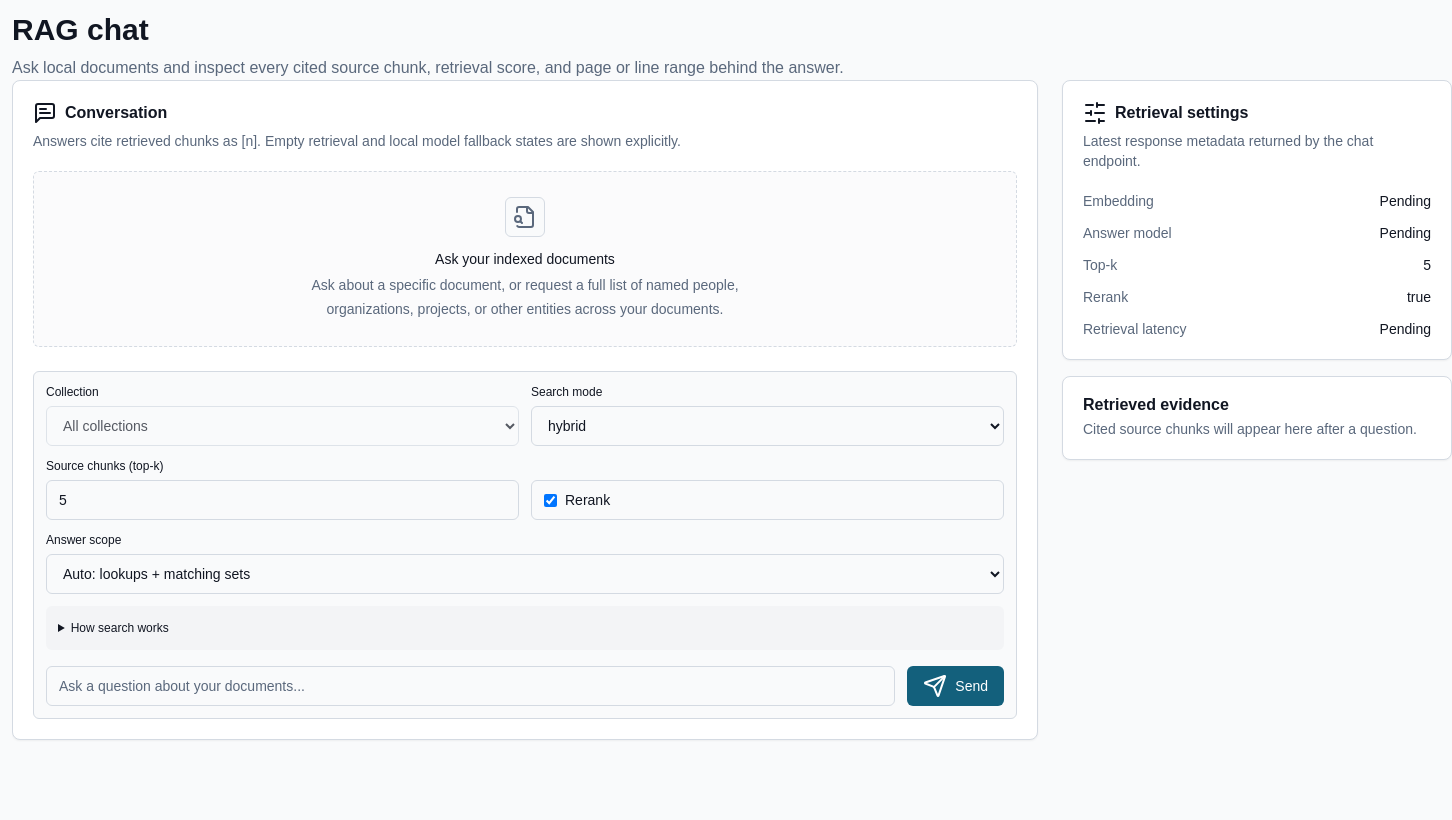
it: chat inventory preview › shows up to 50 results out of 3 with a text download
In the field with placeholder "Ask a question about your documents...": (471, 686) [46,666,895,706], type "Who supplies us?"
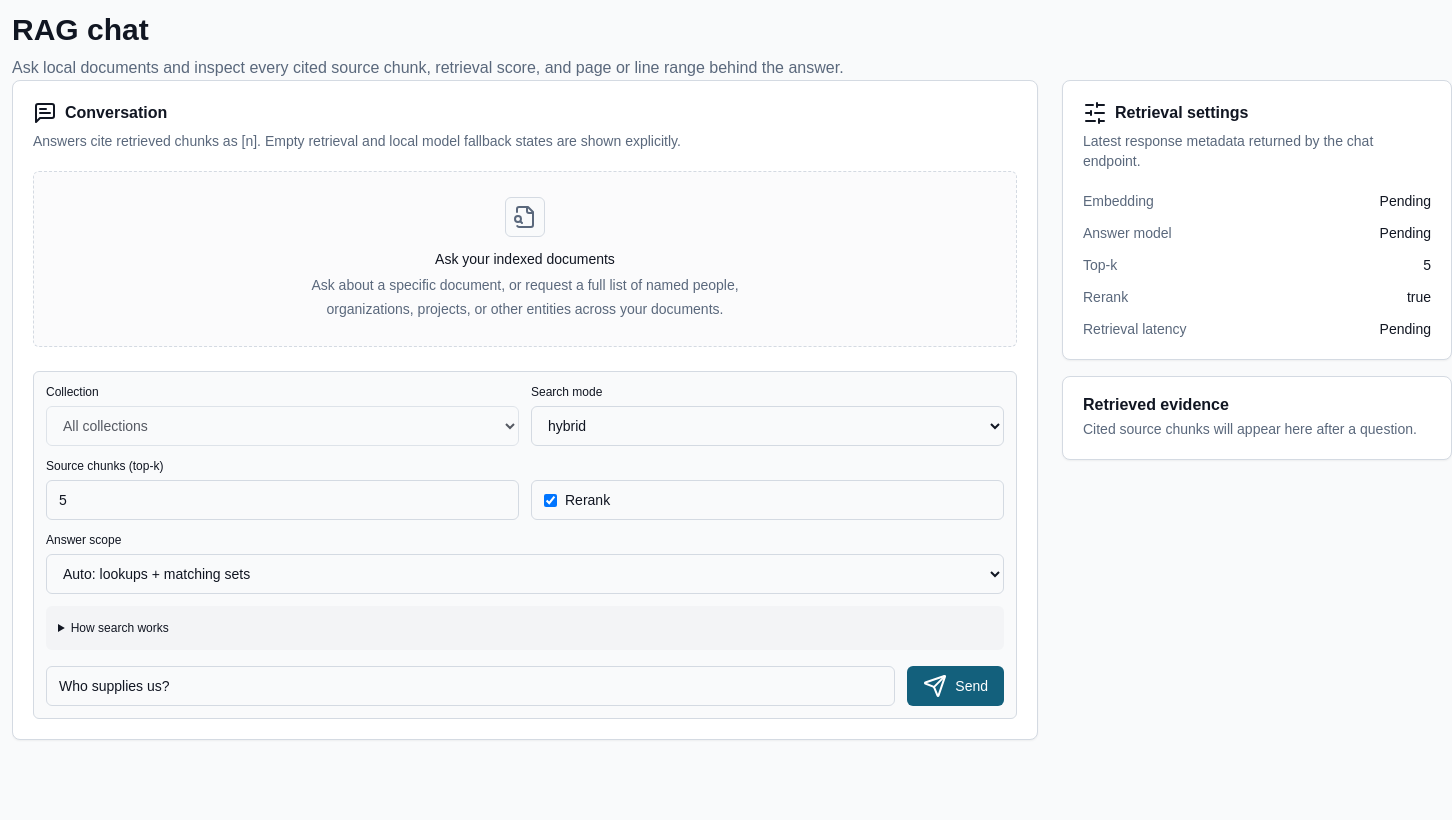
Click the button "Send": (956, 686) [907,666,1004,706]
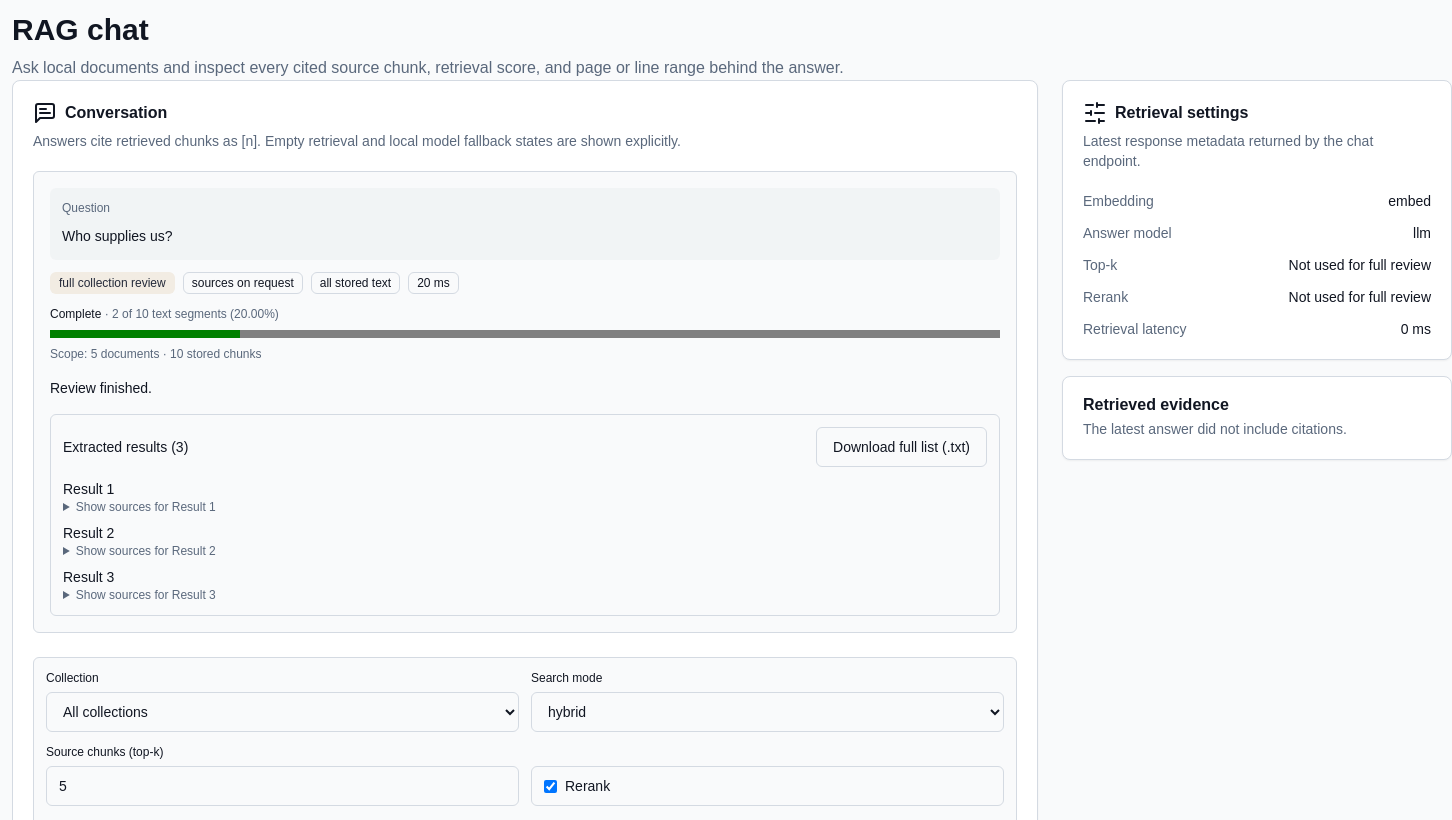
Now the number of list items is 3, box [63,481,216,514]; [63,525,216,558]; [63,569,216,602]
Now the button "Download full list (.txt)" is shown, box [816,427,987,467]
